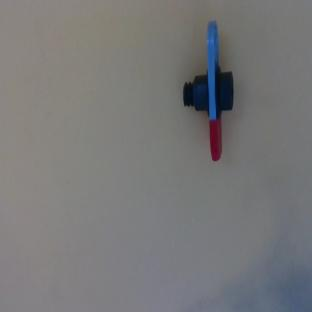part_1_good: (181, 20, 235, 161)
